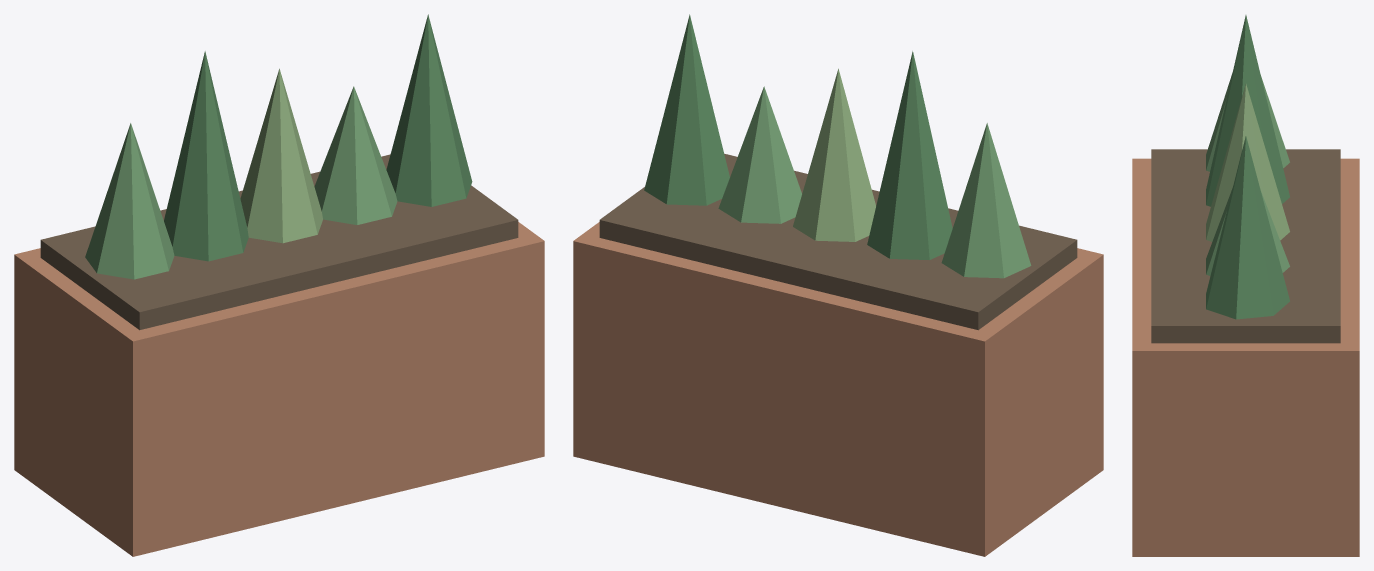
File: pla_hortela.glb
3 renders of one model, left to right at view 1: azimuth 30°, elevation 25°; view 2: azimuth 150°, elevation 25°; view 3: azimuth 270°, elevation 25°, orthographic. The views are drawn at different scales.
Visible parts, largest first — view 1: PLA_HORTELA_v01; view 2: PLA_HORTELA_v01; view 3: PLA_HORTELA_v01.
Part boxes in pixels (<box>): PLA_HORTELA_v01: <box>14,14,544,556</box>; PLA_HORTELA_v01: <box>573,14,1103,556</box>; PLA_HORTELA_v01: <box>1132,15,1359,556</box>.
Bounding box in the file's own units: 0.36 × 0.36 × 0.18.
